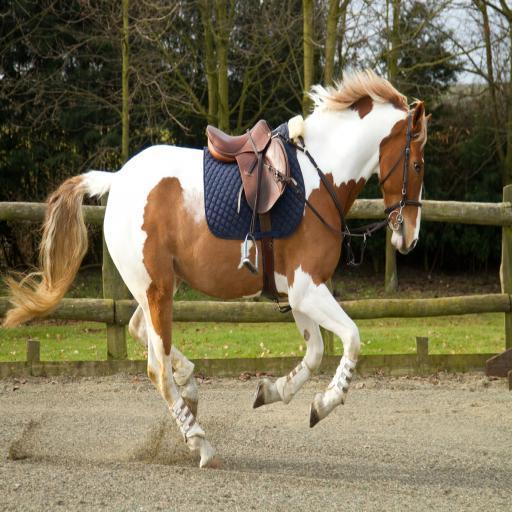horse: (2, 65, 432, 471)
